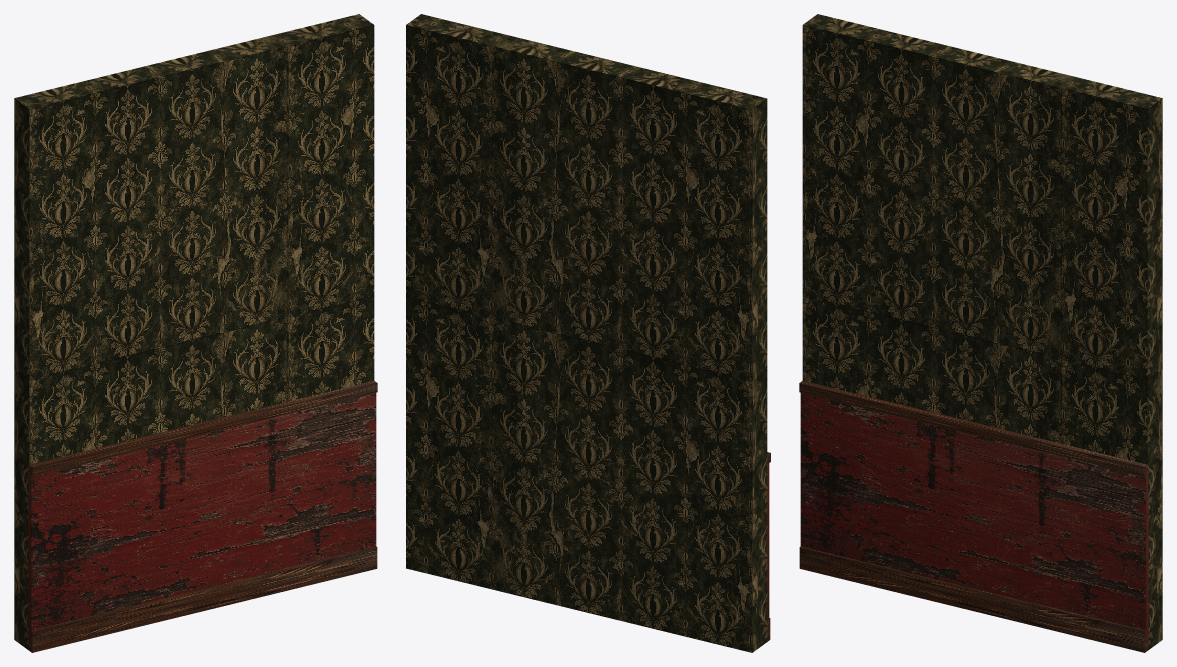
The model's file is HB_Wall_2m.glb.
3 views of the same model, side by side, from view 1: azimuth 30°, elevation 25°; view 2: azimuth 150°, elevation 25°; view 3: azimuth 330°, elevation 25° (orthographic).
Visible parts, largest first — view 1: HB_Wall_2m; view 2: HB_Wall_2m; view 3: HB_Wall_2m.
Part boxes in pixels (x1,y1,x2,y2): HB_Wall_2m: [14, 14, 377, 652]; HB_Wall_2m: [406, 14, 770, 652]; HB_Wall_2m: [799, 14, 1162, 652].
Bounding box in the file's own units: 2 × 3 × 0.185.
2 materials, 2 textured.
